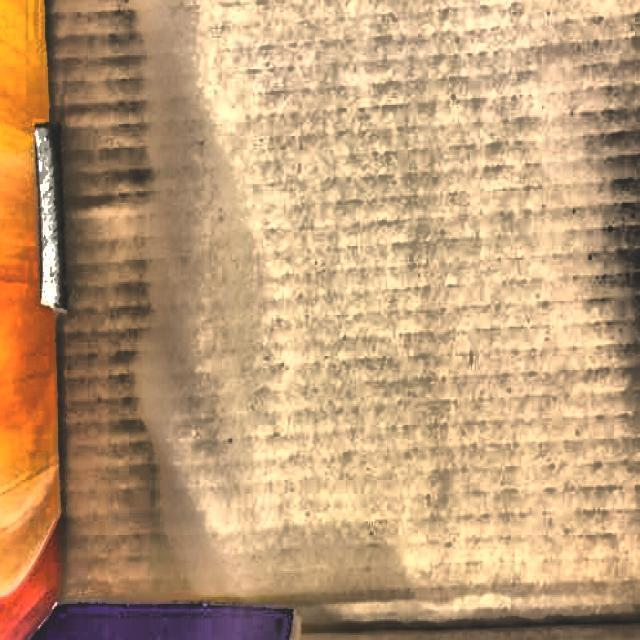cardboard: (0, 0, 65, 640)
